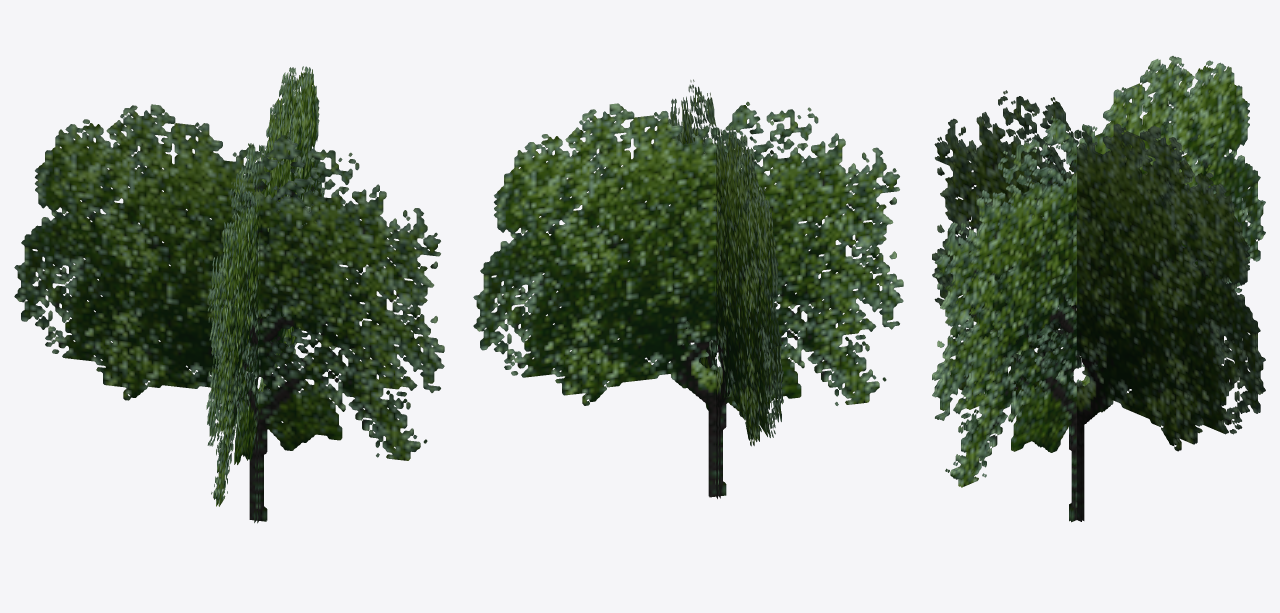
Rendered from tree096.fbx.
3 renders of one model, left to right at view 1: azimuth 30°, elevation 25°; view 2: azimuth 150°, elevation 25°; view 3: azimuth 270°, elevation 25°, orthographic. The views are drawn at different scales.
Visible parts, largest first — view 1: tree096; view 2: tree096; view 3: tree096.
Boxes of the visible parts, bbox=[...] form: tree096: bbox=[14, 66, 444, 523]; tree096: bbox=[473, 79, 903, 498]; tree096: bbox=[932, 56, 1265, 522].
Bounding box in the file's own units: 314 × 400 × 278.
Materials: 1 (1 with a texture image).
